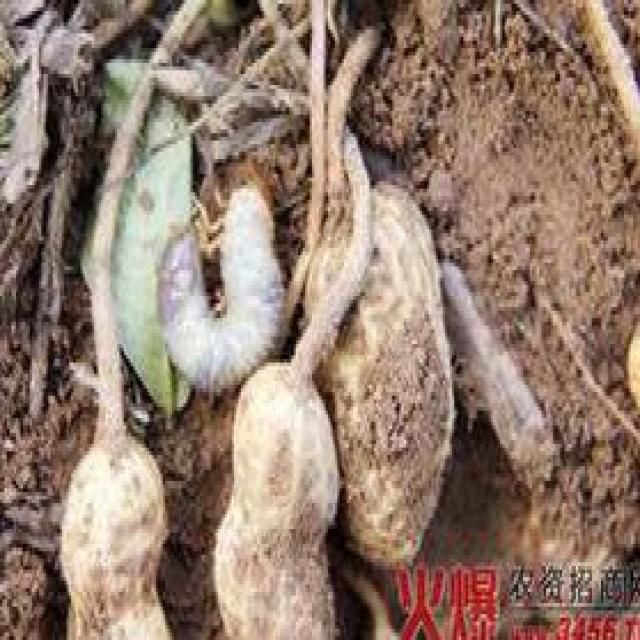Grub-Adult-: (155, 180, 289, 410)
